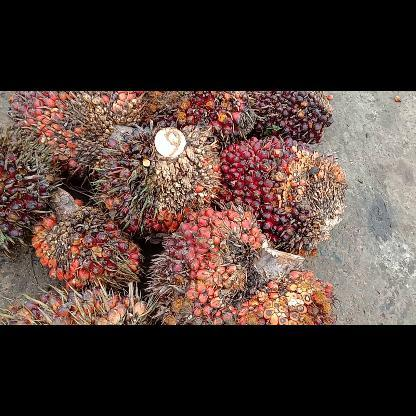TBS masak: (147, 208, 335, 324), (221, 136, 346, 258), (96, 122, 224, 236), (32, 186, 146, 288), (9, 92, 146, 173), (0, 132, 56, 263), (145, 91, 257, 145), (0, 286, 154, 324), (251, 91, 335, 143)
